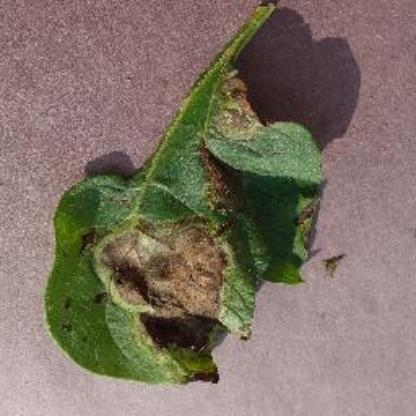Late-Blight: (26, 62, 346, 400)
